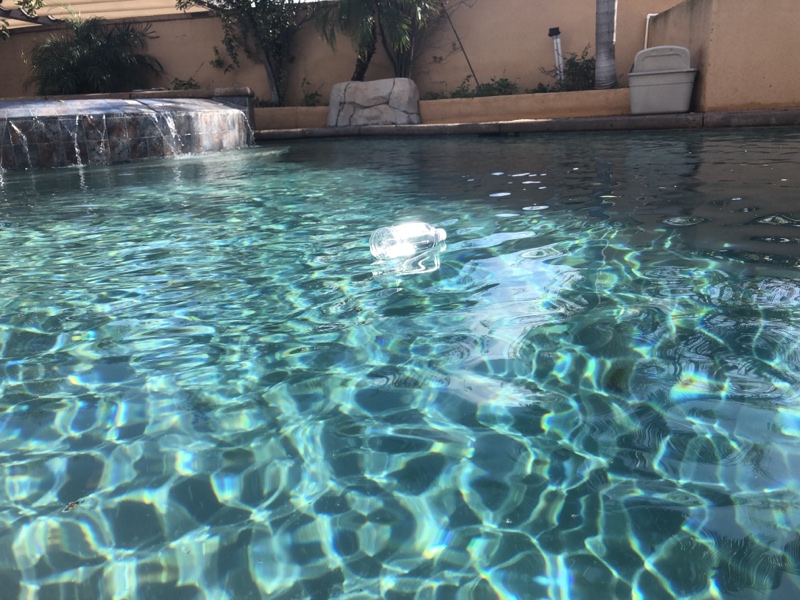Plastic Bottle: (364, 216, 456, 264)
